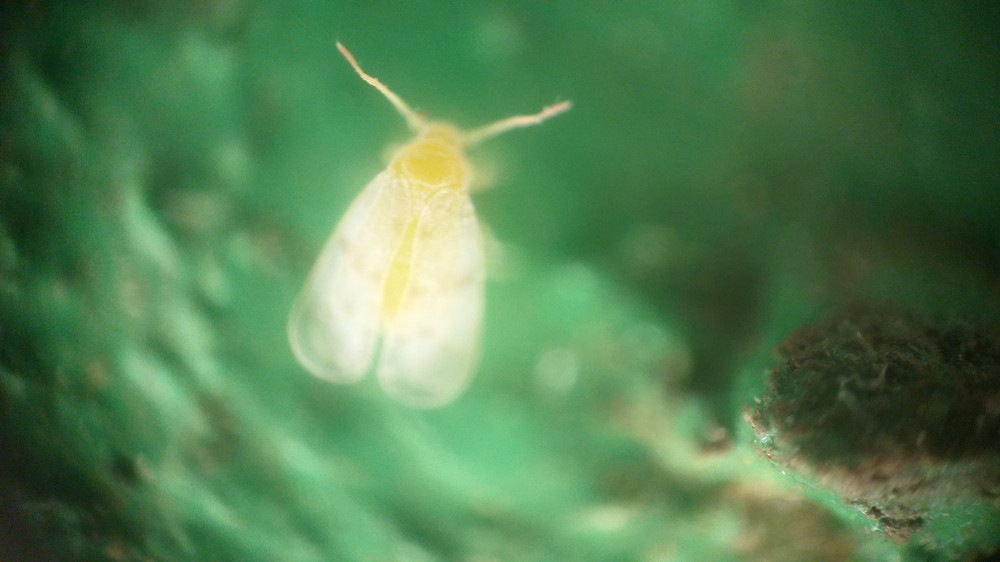Mosca Blanca: (270, 31, 593, 421)
